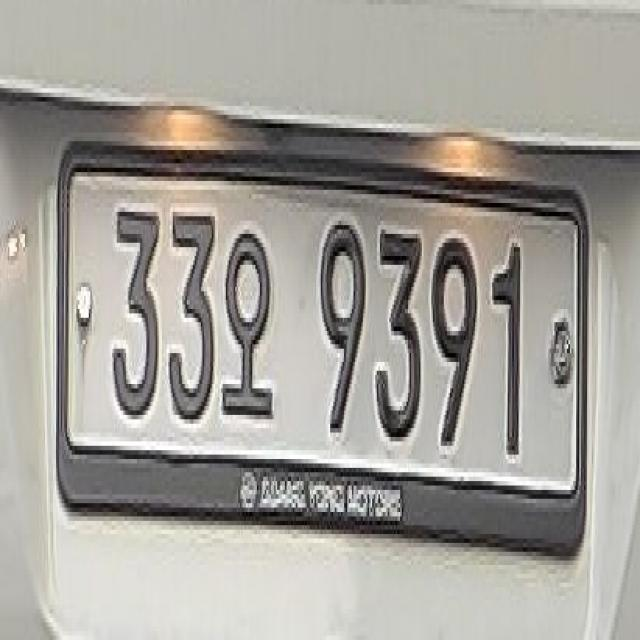1: (489, 234, 523, 463)
3: (159, 203, 216, 415), (372, 216, 424, 446), (109, 194, 160, 424)
9: (314, 221, 366, 441), (431, 225, 480, 455)
license_plate: (62, 145, 586, 520)
o: (220, 225, 274, 433)
